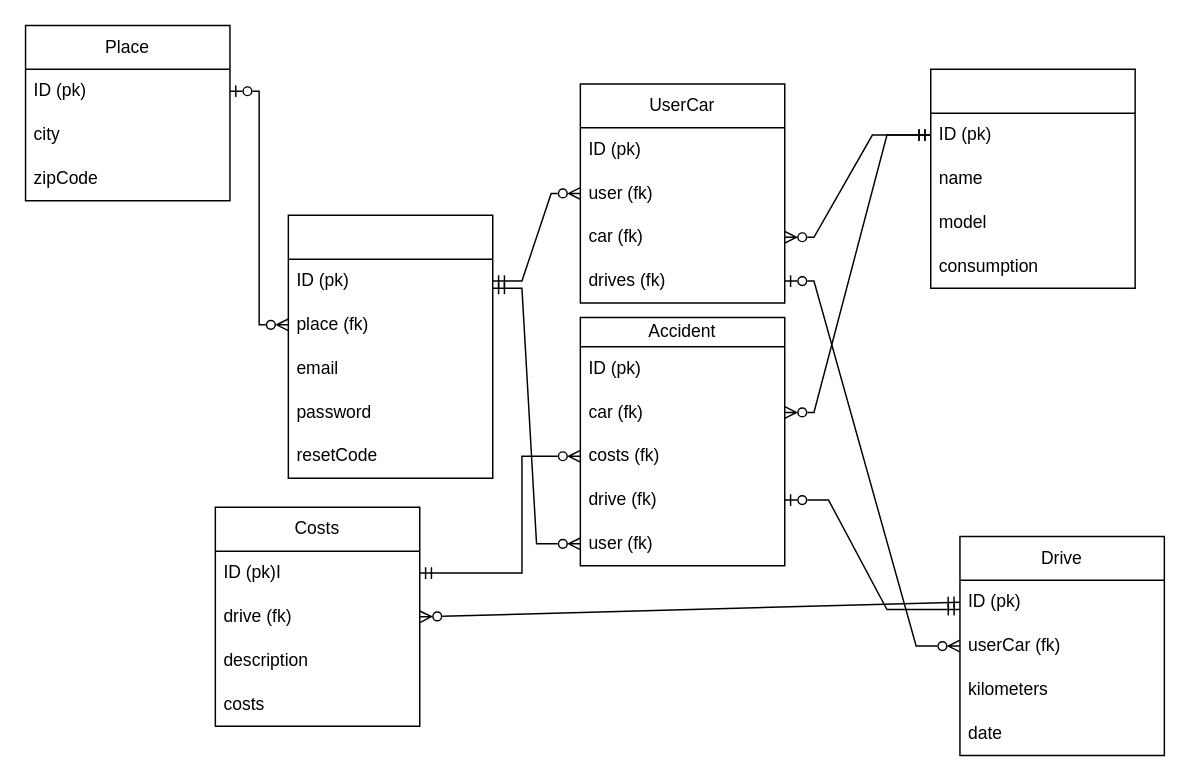
Some shapes in this 1190 by 781 pixel diagram are drawn without their labels. The box of each missing label's shape, as (x1, y1, x2, y2) in pixels:
Car: (929, 68, 1135, 288)
Users: (287, 214, 493, 478)
